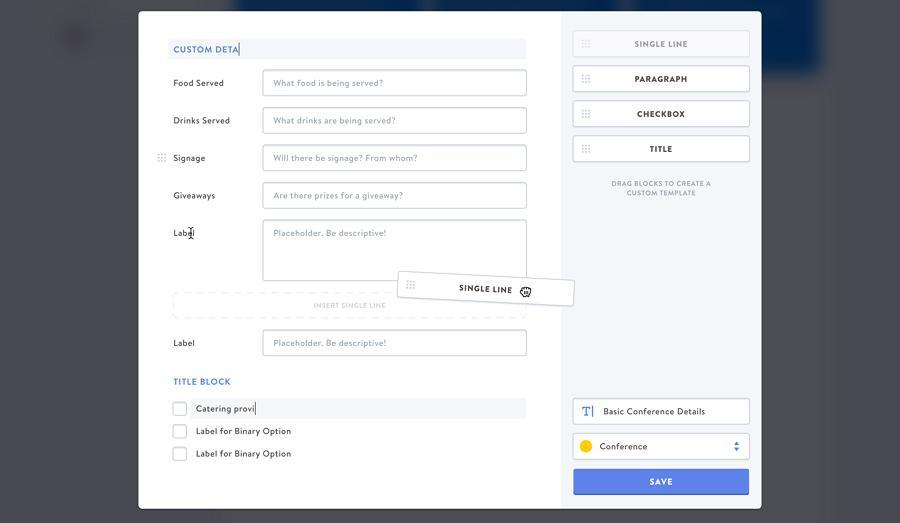button: (575, 468, 750, 497), (573, 66, 750, 94), (574, 399, 751, 426), (575, 31, 751, 58), (574, 137, 752, 162), (574, 102, 752, 127)
checkbox: (173, 447, 188, 462), (174, 425, 188, 440), (174, 402, 187, 416)
dropdown: (574, 434, 751, 461)
icon: (580, 107, 593, 121), (580, 142, 593, 156), (581, 37, 593, 52), (581, 72, 593, 86)
input: (263, 146, 528, 172), (264, 331, 527, 357), (264, 109, 529, 134), (264, 72, 527, 97), (264, 184, 528, 208)
label: (194, 446, 296, 461), (195, 424, 294, 439), (170, 375, 235, 392), (194, 402, 263, 416), (174, 114, 233, 128), (171, 78, 226, 91), (171, 190, 218, 203), (171, 153, 207, 166), (171, 226, 197, 241), (171, 338, 198, 348)
